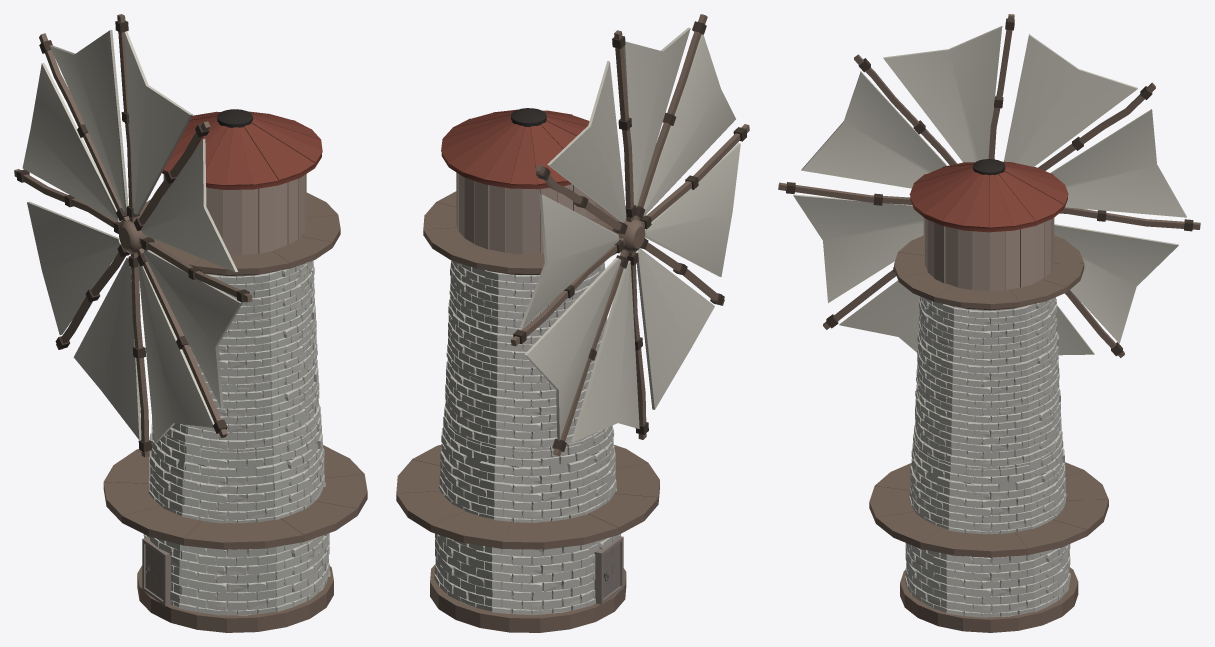
File: mesh_windmill.fbx
3 views of the same model, side by side, from view 1: azimuth 30°, elevation 25°; view 2: azimuth 150°, elevation 25°; view 3: azimuth 270°, elevation 25° (orthographic). The views are drawn at different scales.
Parts seen in each view (by area): view 1: propeller, Stone_walls1, wood_platforms1, roof1, wood_cylinder1, Door1, roof_metal; view 2: propeller, Stone_walls1, wood_platforms1, roof1, wood_cylinder1, Door1, roof_metal; view 3: propeller, Stone_walls1, wood_platforms1, roof1, wood_cylinder1.
Part boxes in pixels (<box>): propeller: <box>14,14,252,457</box>; Stone_walls1: <box>143,260,330,615</box>; wood_platforms1: <box>103,192,367,632</box>; roof1: <box>162,111,322,189</box>; wood_cylinder1: <box>163,174,306,255</box>; Door1: <box>142,537,171,606</box>; roof_metal: <box>217,109,252,127</box>; propeller: <box>511,14,749,456</box>; Stone_walls1: <box>434,260,620,615</box>; wood_platforms1: <box>396,191,659,632</box>; roof1: <box>441,109,589,189</box>; wood_cylinder1: <box>456,172,600,254</box>; Door1: <box>594,535,623,604</box>; roof_metal: <box>511,108,546,126</box>; propeller: <box>778,14,1200,357</box>; Stone_walls1: <box>905,296,1070,617</box>; wood_platforms1: <box>869,235,1108,632</box>; roof1: <box>909,161,1068,232</box>; wood_cylinder1: <box>923,217,1054,290</box>.
Bounding box in the file's own units: 1090 × 2686 × 1920.
